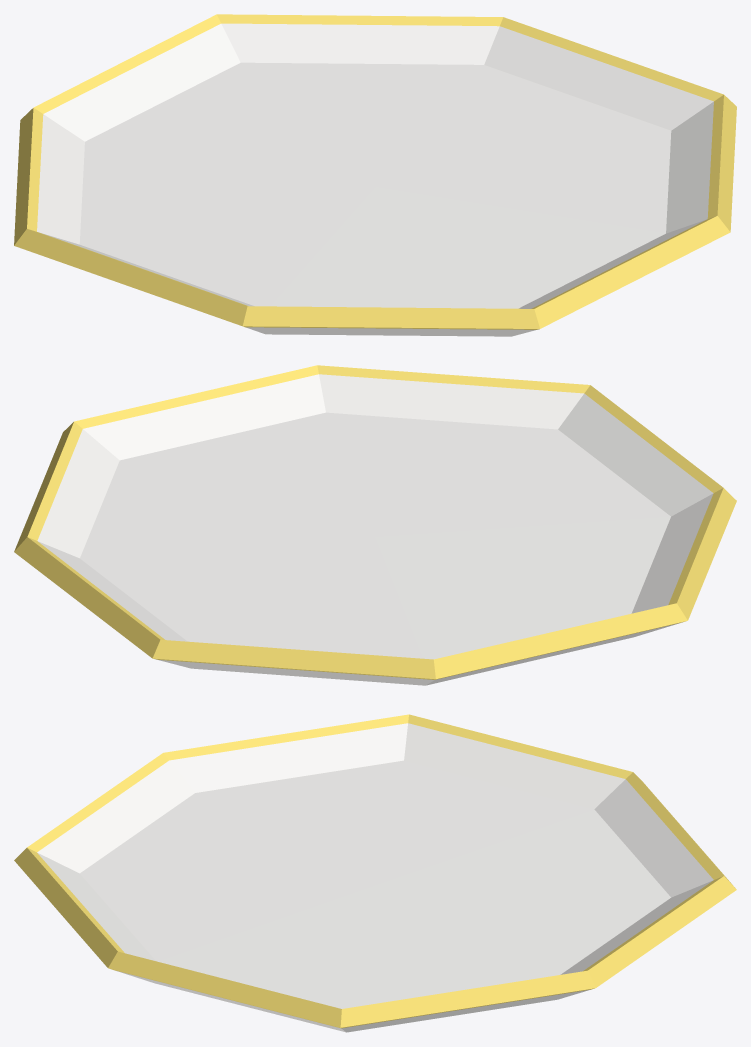
File: Plate_6.fbx
The picture shows the model from 3 angles, top to bottom: view 1: azimuth 30°, elevation 25°; view 2: azimuth 150°, elevation 25°; view 3: azimuth 270°, elevation 25°; orthographic projection. The views are drawn at different scales.
Visible parts, largest first — view 1: Plate_6; view 2: Plate_6; view 3: Plate_6.
Part boxes in pixels (x1,y1,x2,y2): Plate_6: [14, 14, 736, 336]; Plate_6: [14, 365, 736, 685]; Plate_6: [14, 714, 736, 1032].
Bounding box in the file's own units: 38.44 × 38.44 × 2.61.
